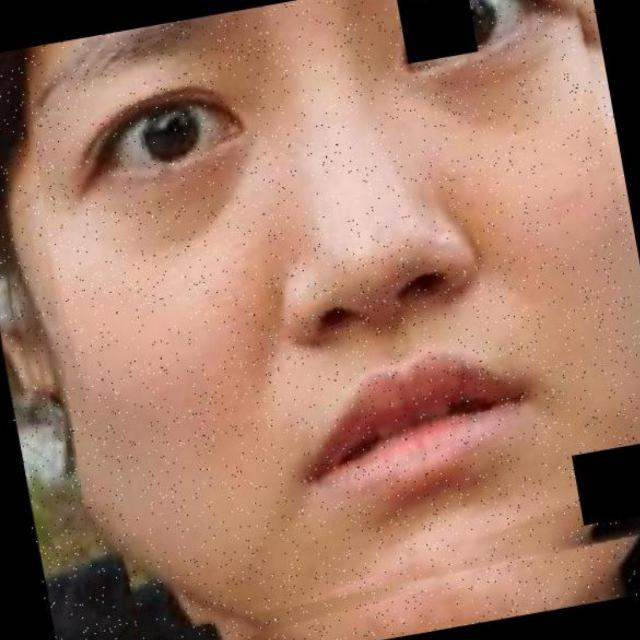Disgust: (55, 0, 605, 632)
